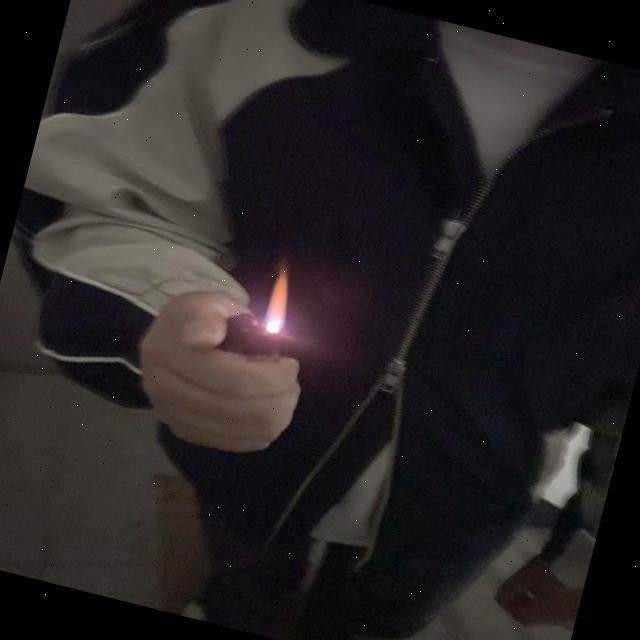fire: (260, 268, 300, 329)
